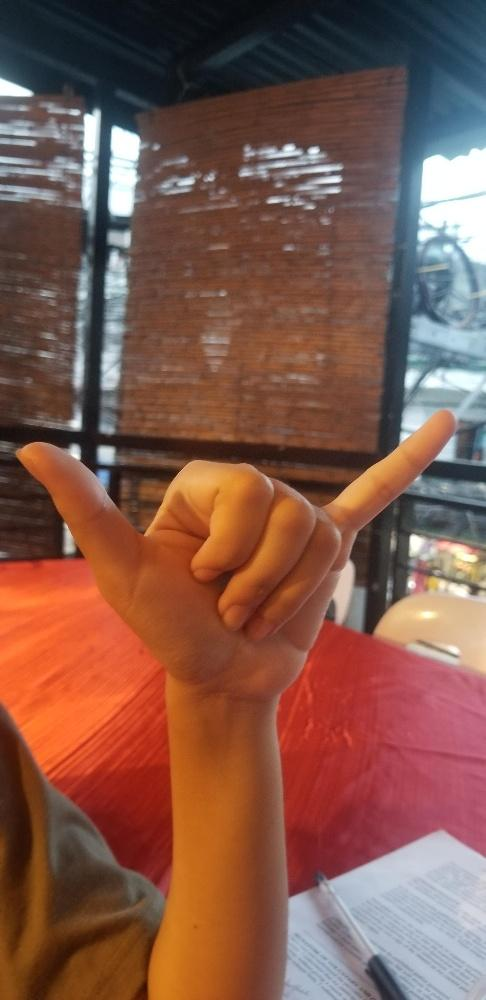y: (15, 406, 455, 695)
